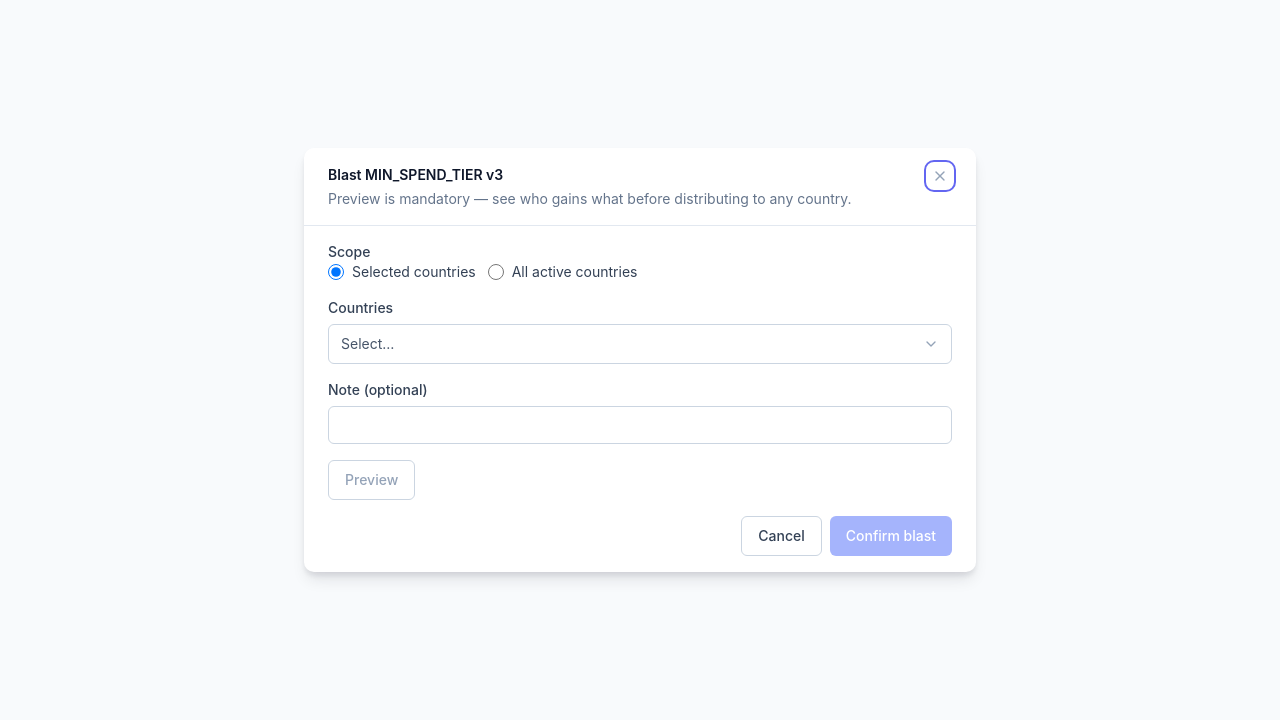
Test: BlastDialog › Preview is enabled immediately under "All active countries" scope
Click the radio button labelled "All active countries". click: (496, 272)
box: [488,264,504,280]
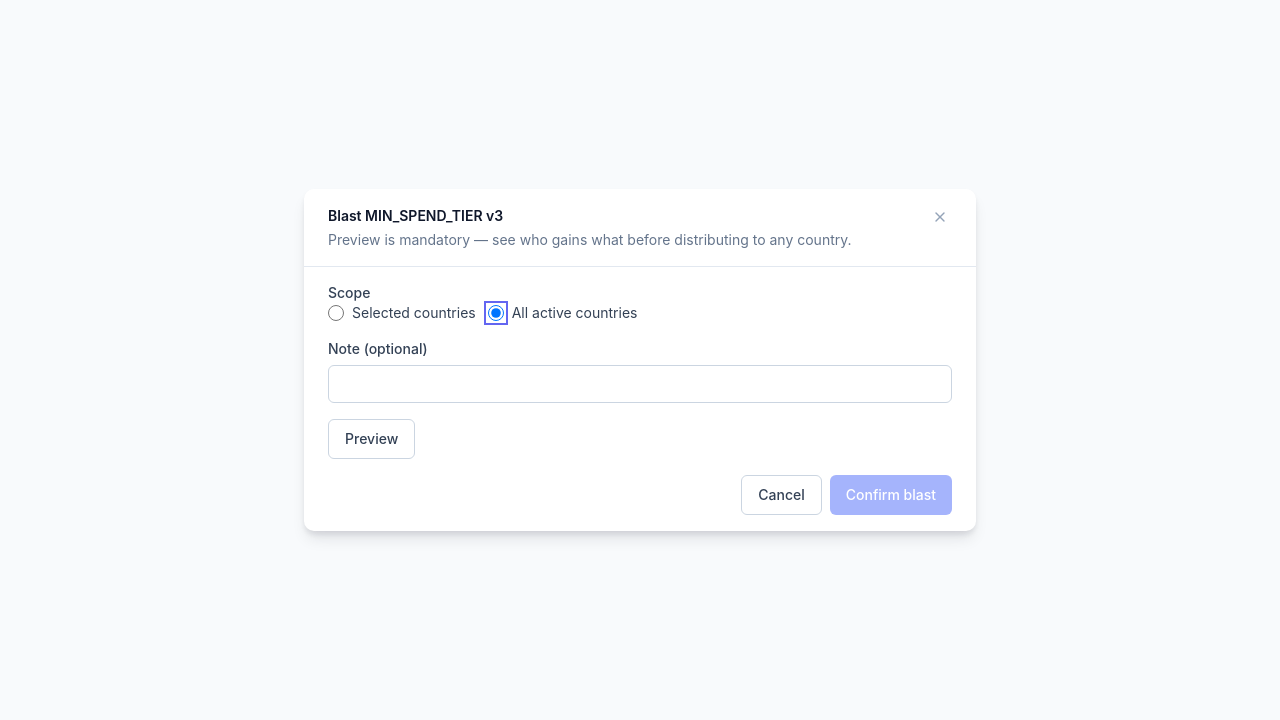
Expected: the button "Preview" is enabled, [328,419,415,459]
